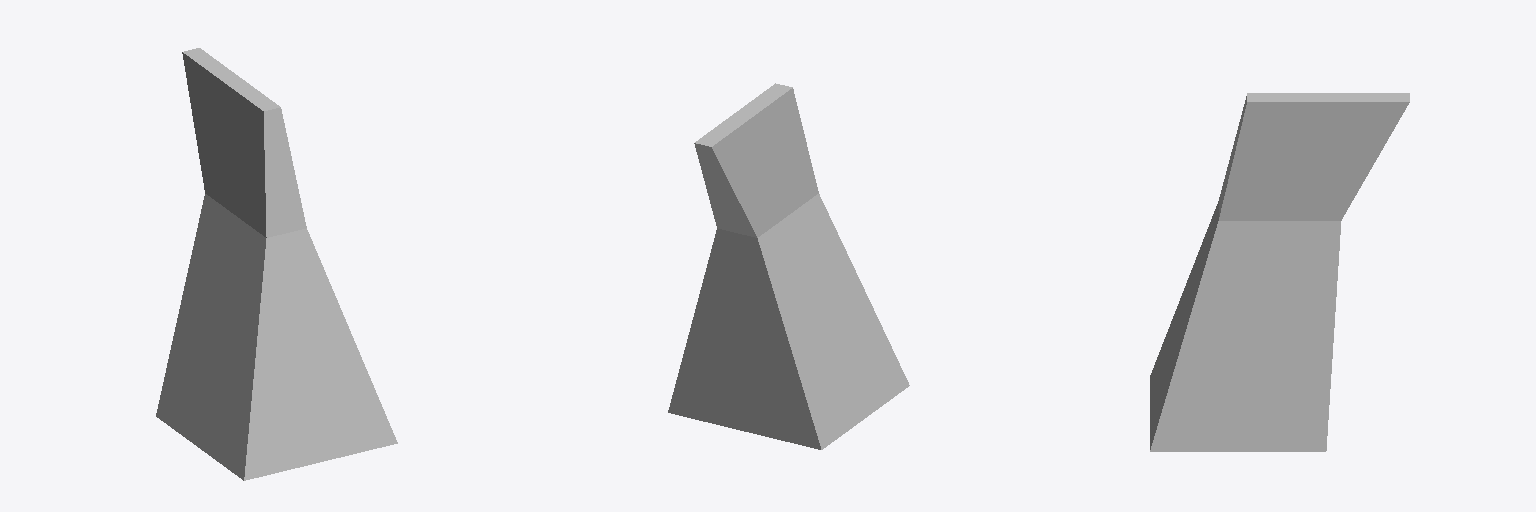
File: TcolliderUP.obj
The picture shows the model from 3 angles: view 1: azimuth 30°, elevation 25°; view 2: azimuth 150°, elevation 25°; view 3: azimuth 270°, elevation 25°; orthographic projection.
Parts seen in each view (by area): view 1: TcolliderUP; view 2: TcolliderUP; view 3: TcolliderUP.
Part boxes in pixels (x1,y1,x2,y2): TcolliderUP: (156, 48, 397, 480); TcolliderUP: (668, 83, 909, 449); TcolliderUP: (1150, 93, 1409, 451).
Size of the model in its own units: 1.09 by 2.15 by 1.6.